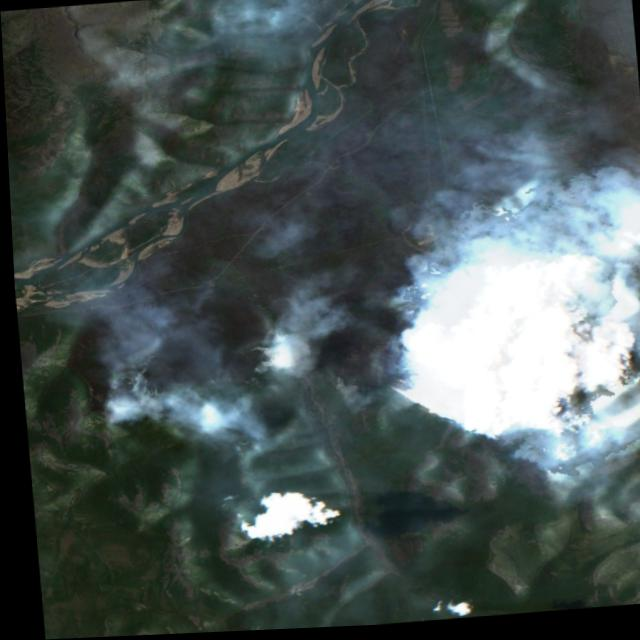fire: (63, 287, 513, 435)
